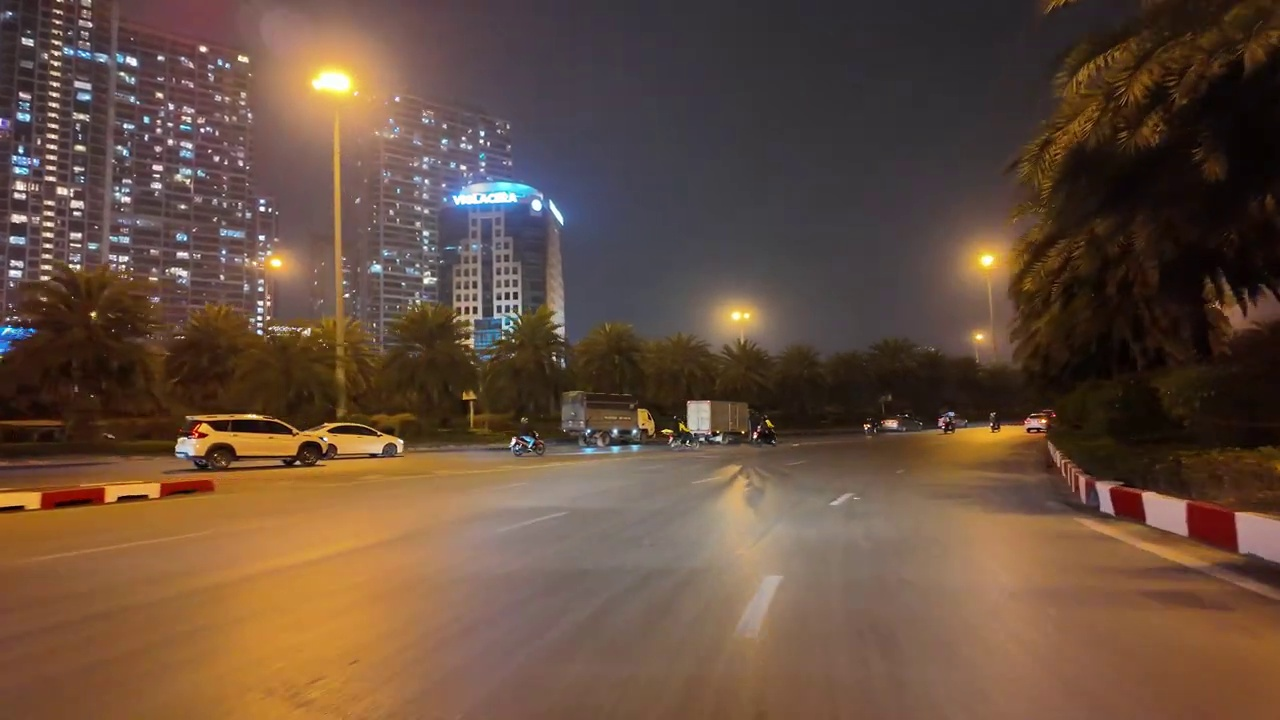acesa: (308, 62, 358, 104), (969, 244, 1007, 277), (720, 302, 756, 333), (266, 251, 295, 277), (970, 326, 994, 350)
